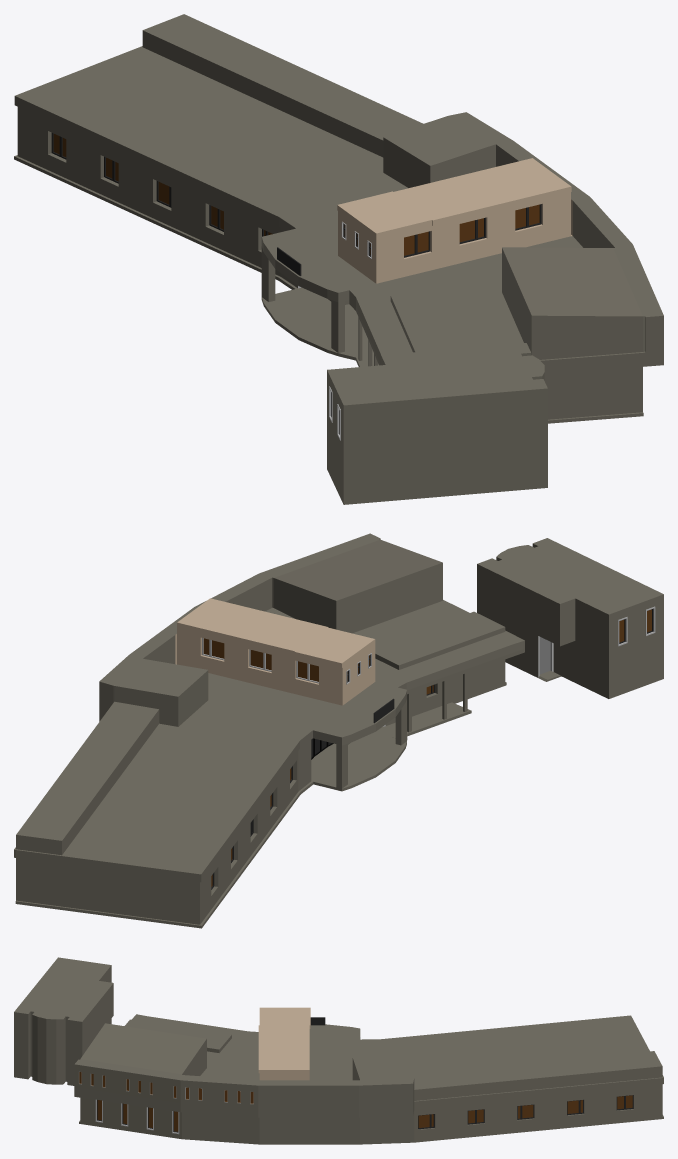
Rendered from faculte info.gltf.
The picture shows the model from 3 angles, top to bottom: view 1: azimuth 30°, elevation 25°; view 2: azimuth 150°, elevation 25°; view 3: azimuth 270°, elevation 25°; orthographic projection. The views are drawn at different scales.
Parts seen in each view (by area): view 1: dep info; view 2: dep info; view 3: dep info.
Part boxes in pixels (box(x1,y1,x2,y2)): dep info: box(14, 14, 663, 504); dep info: box(14, 533, 663, 928); dep info: box(14, 957, 663, 1144).
Size of the model in its own units: 65.86 by 17.93 by 141.
1 material, 1 textured.
